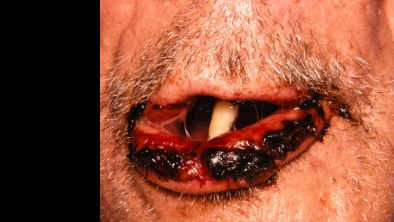SJS-TEN: (113, 78, 380, 216)
